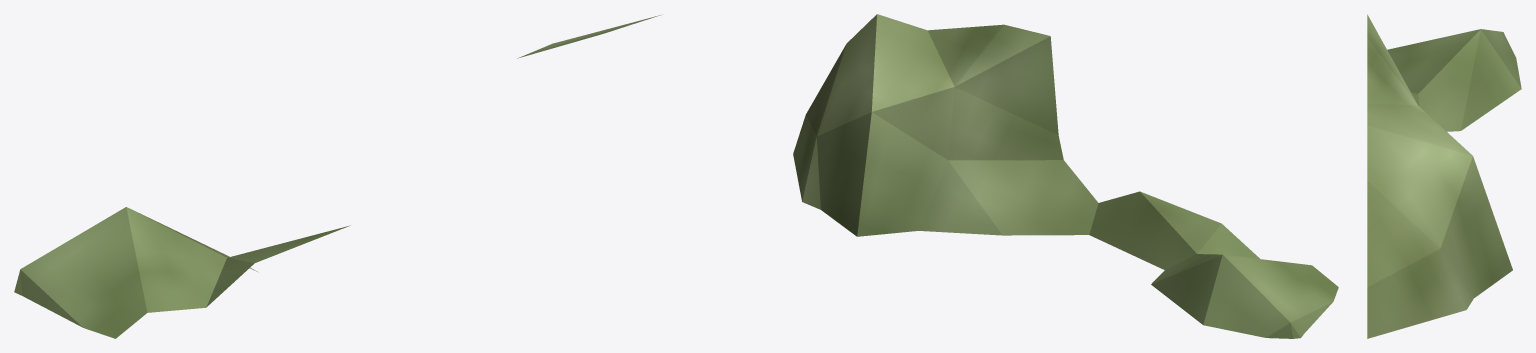
The picture shows the model from 3 angles, left to right: view 1: azimuth 30°, elevation 25°; view 2: azimuth 150°, elevation 25°; view 3: azimuth 270°, elevation 25°; orthographic projection. The views are drawn at different scales.
Bounding box in the file's own units: 0.7216 × 0.2191 × 0.1599.
1 material, 1 textured.
